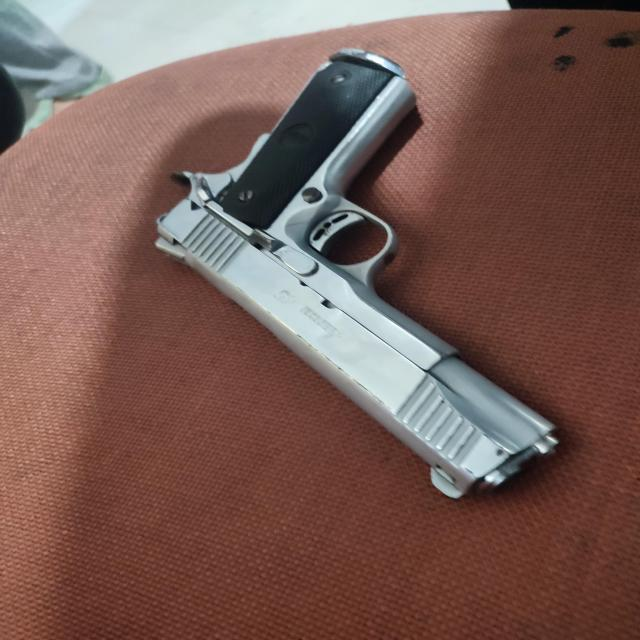pistol: (154, 48, 559, 500)
